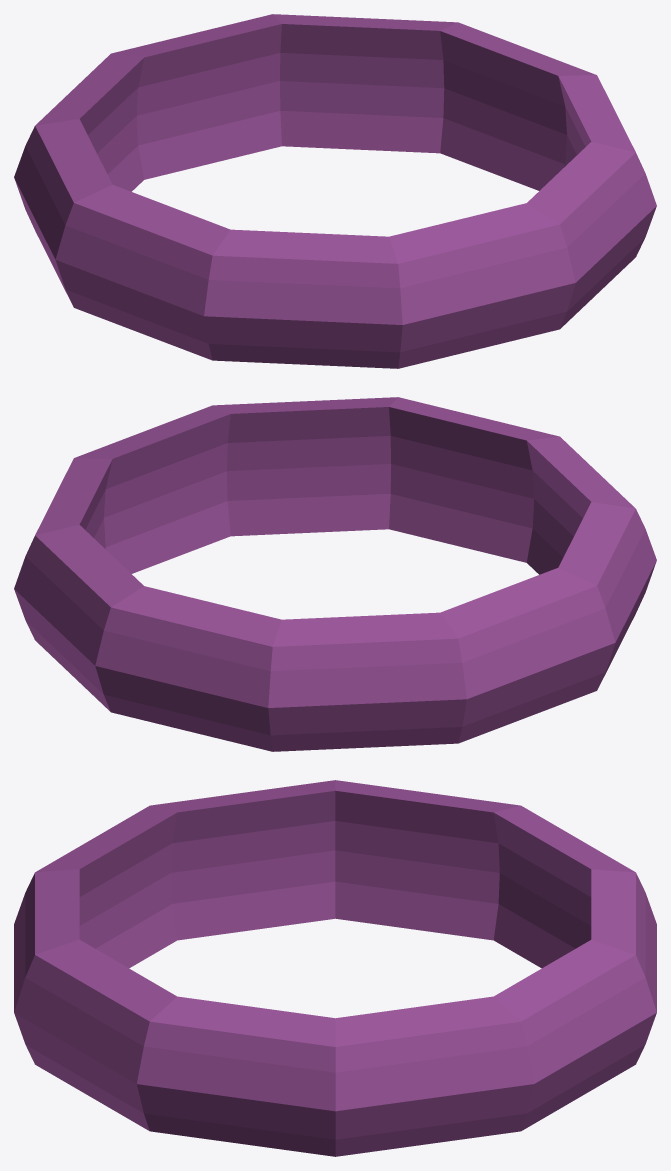
The model's file is Bracelet_01.fbx.
The picture shows the model from 3 angles, top to bottom: view 1: azimuth 30°, elevation 25°; view 2: azimuth 150°, elevation 25°; view 3: azimuth 270°, elevation 25°; orthographic projection. The views are drawn at different scales.
Parts seen in each view (by area): view 1: Bracelet_01; view 2: Bracelet_01; view 3: Bracelet_01.
Part boxes in pixels (x1,y1,x2,y2): Bracelet_01: (14,14,656,368); Bracelet_01: (14,397,656,751); Bracelet_01: (14,780,656,1156).
Size of the model in its own units: 3.2 by 0.6689 by 3.05.
